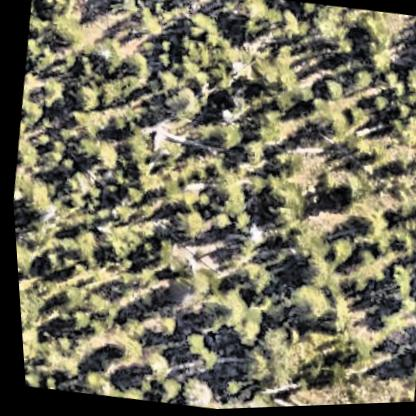tree-top: (236, 326, 305, 396), (250, 174, 311, 235), (276, 279, 336, 335), (176, 44, 232, 95), (352, 18, 400, 77), (93, 218, 150, 267), (223, 257, 273, 306), (10, 175, 58, 220), (110, 126, 157, 171), (305, 95, 348, 138), (81, 133, 125, 175), (104, 186, 149, 227), (249, 59, 296, 98), (15, 284, 48, 338), (179, 9, 224, 48), (154, 78, 195, 120), (168, 372, 212, 411), (166, 206, 209, 245), (325, 169, 366, 209), (58, 170, 101, 208), (42, 6, 84, 44), (319, 234, 358, 274), (302, 3, 341, 43), (29, 70, 67, 111), (69, 106, 111, 143), (63, 225, 100, 266), (169, 150, 208, 188), (82, 39, 121, 77), (376, 263, 413, 303), (115, 47, 152, 86), (77, 292, 115, 328), (246, 111, 281, 150), (234, 137, 269, 175), (264, 148, 302, 182), (129, 162, 167, 196), (271, 7, 308, 41), (358, 234, 396, 267), (69, 82, 103, 117), (207, 297, 243, 329), (339, 336, 370, 373), (111, 313, 145, 346), (305, 357, 339, 390), (212, 123, 245, 156), (48, 278, 80, 312), (347, 208, 382, 239), (130, 2, 162, 35), (280, 230, 312, 263), (362, 308, 395, 340), (380, 148, 414, 179), (228, 0, 266, 27), (11, 137, 40, 172), (390, 62, 416, 101), (17, 320, 41, 362), (341, 104, 373, 135), (391, 215, 416, 254), (102, 382, 148, 403), (310, 73, 341, 104), (148, 376, 180, 406), (104, 338, 136, 367), (60, 306, 89, 336), (39, 140, 68, 170), (144, 234, 169, 268), (213, 181, 241, 211), (188, 346, 219, 373), (173, 330, 200, 359), (12, 237, 31, 276), (204, 210, 230, 236), (25, 13, 49, 41), (387, 293, 412, 319), (215, 374, 239, 400), (379, 387, 410, 406), (345, 70, 369, 94), (386, 101, 409, 125), (150, 49, 171, 73), (19, 362, 38, 388), (72, 369, 93, 389), (367, 96, 387, 116), (156, 38, 174, 52), (411, 38, 416, 82), (408, 100, 416, 123)
